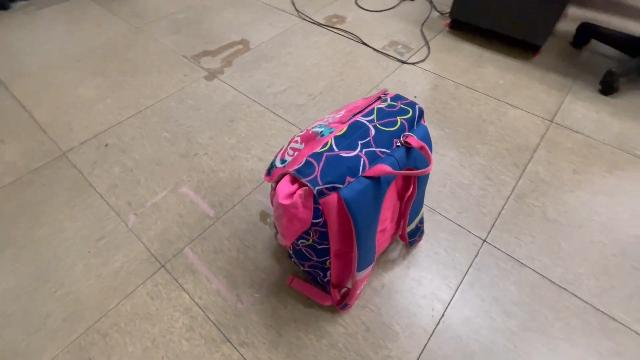Backpack: (256, 85, 440, 319)
